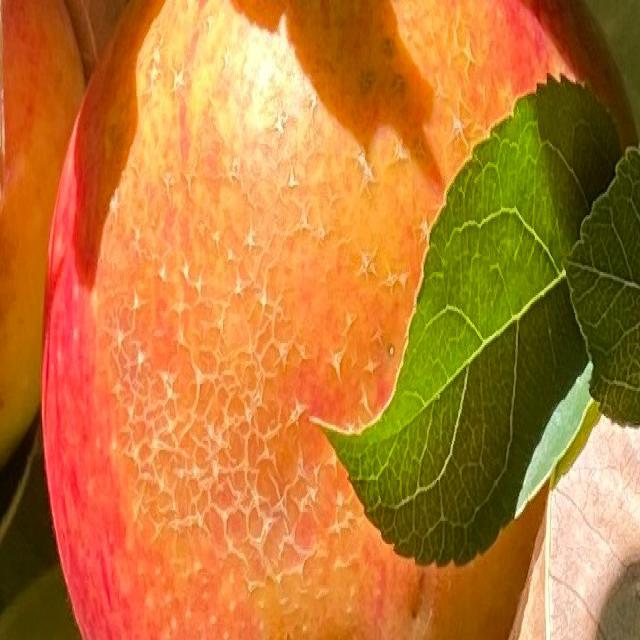Apples: (42, 0, 639, 638), (0, 0, 86, 462)
